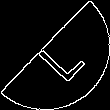L_NW: (25, 26, 85, 84)
